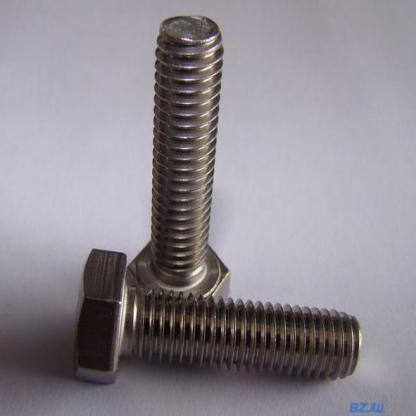FOD: (66, 246, 363, 390), (124, 12, 234, 323)
